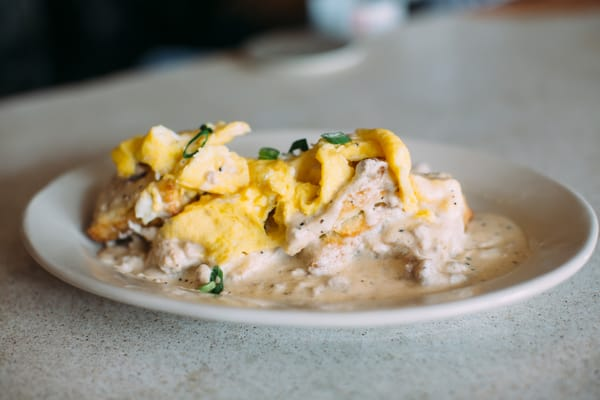curry: (4, 7, 599, 391)
